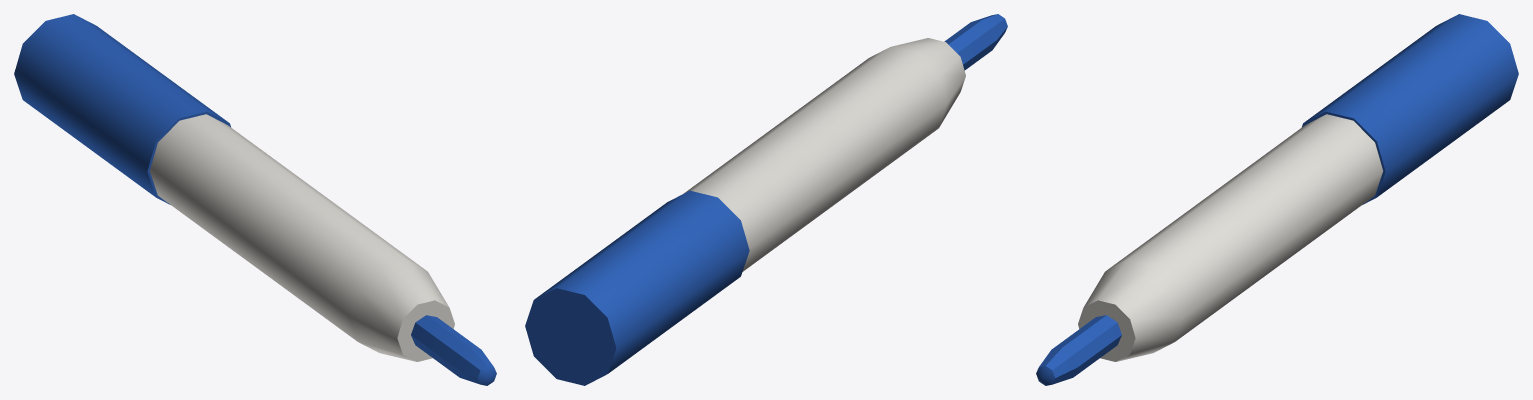
The model's file is marker.glb.
The picture shows the model from 3 angles, left to right: view 1: azimuth 30°, elevation 25°; view 2: azimuth 150°, elevation 25°; view 3: azimuth 330°, elevation 25°; orthographic projection.
Visible parts, largest first — view 1: marker; view 2: marker; view 3: marker.
Boxes of the visible parts, <box> form: marker: <box>14,14,496,385</box>; marker: <box>525,14,1007,385</box>; marker: <box>1036,14,1518,385</box>.
Size of the model in its own units: 0.019 by 0.0181 by 0.155.
